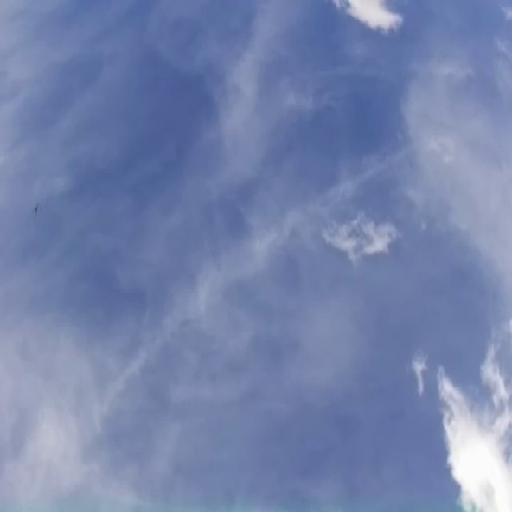drones: (30, 200, 43, 220)
